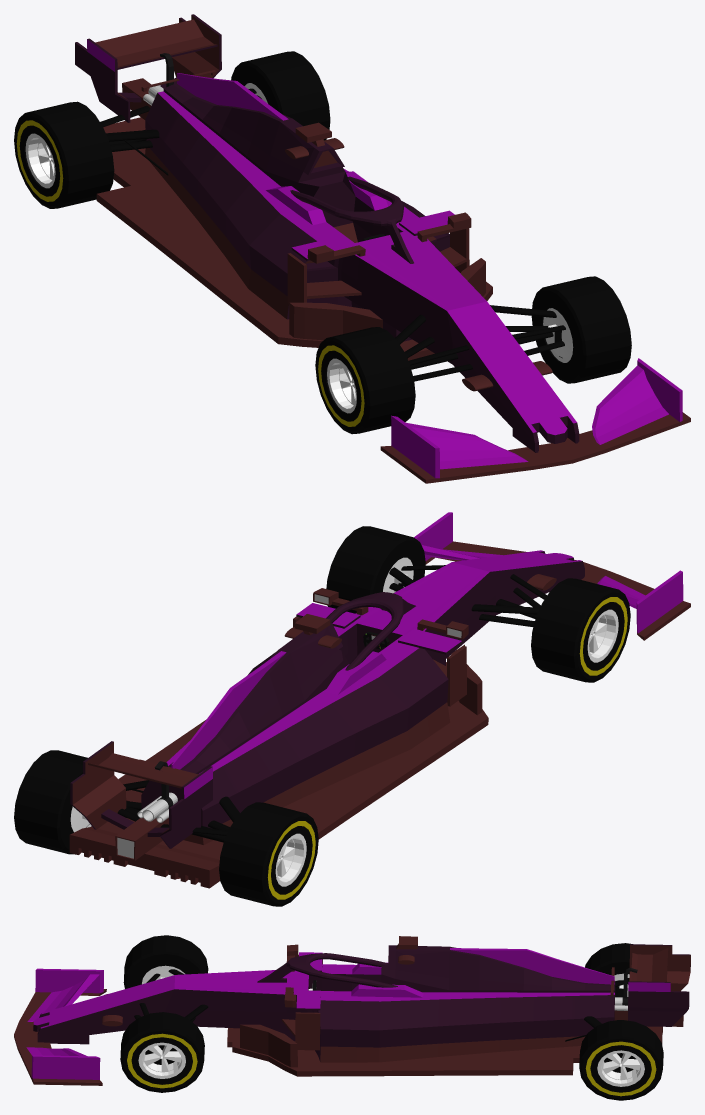
File: F1-oposite_car01.obj
3 renders of one model, top to bottom at view 1: azimuth 30°, elevation 25°; view 2: azimuth 150°, elevation 25°; view 3: azimuth 270°, elevation 25°, orthographic. The views are drawn at different scales.
Visible parts, largest first — view 1: Cube.002, Cube.005_Cube.018, Cube.007_Cube.020, Cube; view 2: Cube.002, Cube.005_Cube.018, Cube.007_Cube.020, Cube, Cylinder.003_Cylinder.005; view 3: Cube.002, Cube.005_Cube.018, Cube.007_Cube.020, Cube.
Boxes of the visible parts, x1=… form: Cube.002: x1=75, y1=14, x2=690, y2=483; Cube.005_Cube.018: x1=315, y1=276, x2=631, y2=434; Cube.007_Cube.020: x1=14, y1=51, x2=330, y2=208; Cube: x1=287, y1=228, x2=469, y2=304; Cube.002: x1=69, y1=512, x2=690, y2=888; Cube.005_Cube.018: x1=326, y1=526, x2=630, y2=682; Cube.007_Cube.020: x1=14, y1=750, x2=318, y2=906; Cube: x1=293, y1=616, x2=466, y2=706; Cylinder.003_Cylinder.005: x1=137, y1=792, x2=177, y2=822; Cube.002: x1=14, y1=936, x2=690, y2=1085; Cube.005_Cube.018: x1=120, y1=935, x2=208, y2=1092; Cube.007_Cube.020: x1=565, y1=943, x2=663, y2=1100; Cube: x1=282, y1=954, x2=322, y2=1050.
Size of the model in its own units: 1.87 by 0.9883 by 5.41.
